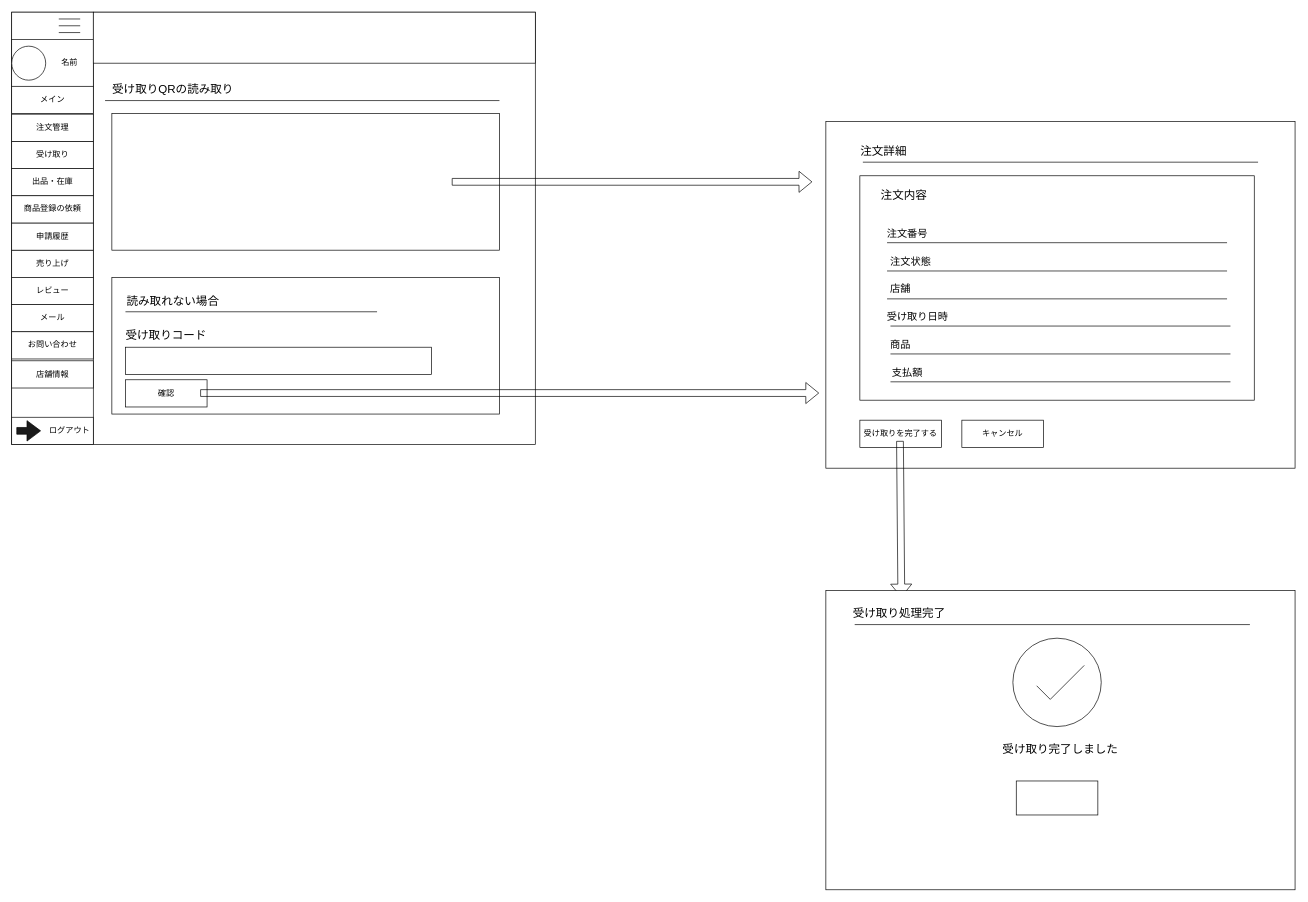
This 1308x902 diagram has some shape labels left out. The centre of each missing label's shape, as x and y in pixels:
"QR読み取り画面へ" goes at point 1057,797.
"カメラでQRコードを読み取る" goes at point 305,181.
